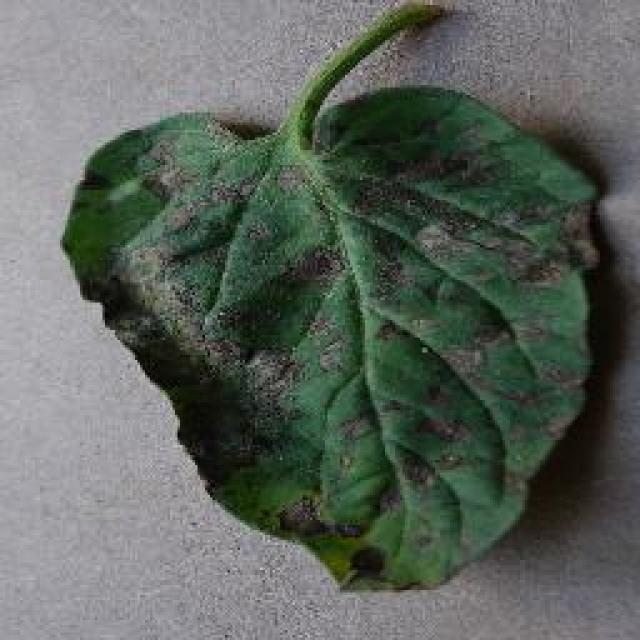Tomato___Early_blight: (59, 5, 601, 592)
